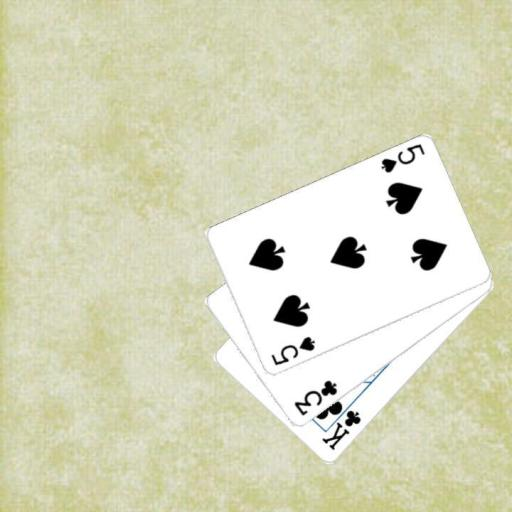3C: (290, 377, 339, 418)
5S: (268, 334, 317, 368), (377, 141, 426, 175)
KC: (319, 398, 363, 452)
